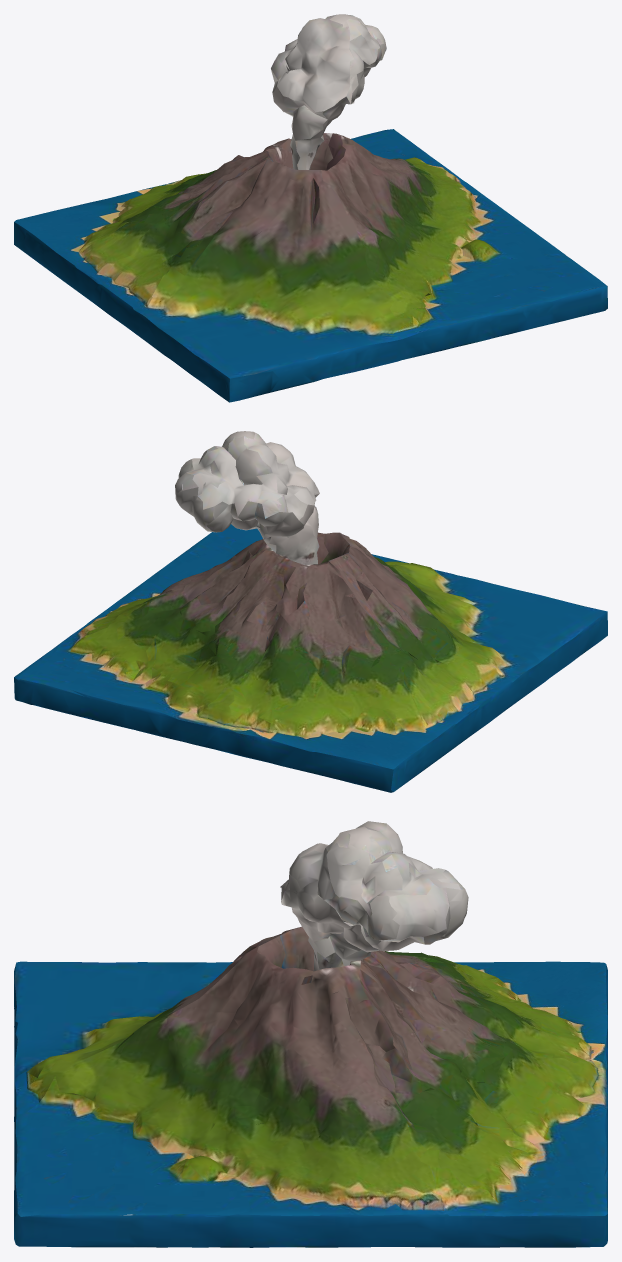
The model's file is sakurajima.glb.
3 views of the same model, one above another, from view 1: azimuth 30°, elevation 25°; view 2: azimuth 150°, elevation 25°; view 3: azimuth 270°, elevation 25° (orthographic). The views are drawn at different scales.
Visible parts, largest first — view 1: logan-textured.obj; view 2: logan-textured.obj; view 3: logan-textured.obj.
Part boxes in pixels (box(x1,y1,x2,y2)): logan-textured.obj: box(14, 14, 607, 402); logan-textured.obj: box(14, 431, 607, 792); logan-textured.obj: box(14, 821, 607, 1247).
Size of the model in its own units: 1 by 0.597 by 0.9888.
Materials: 1 (1 with a texture image).
